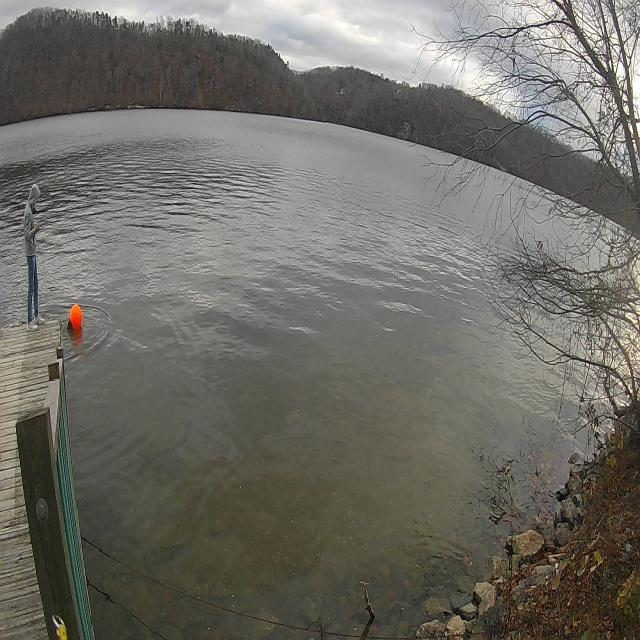Buoy: (67, 298, 83, 338)
